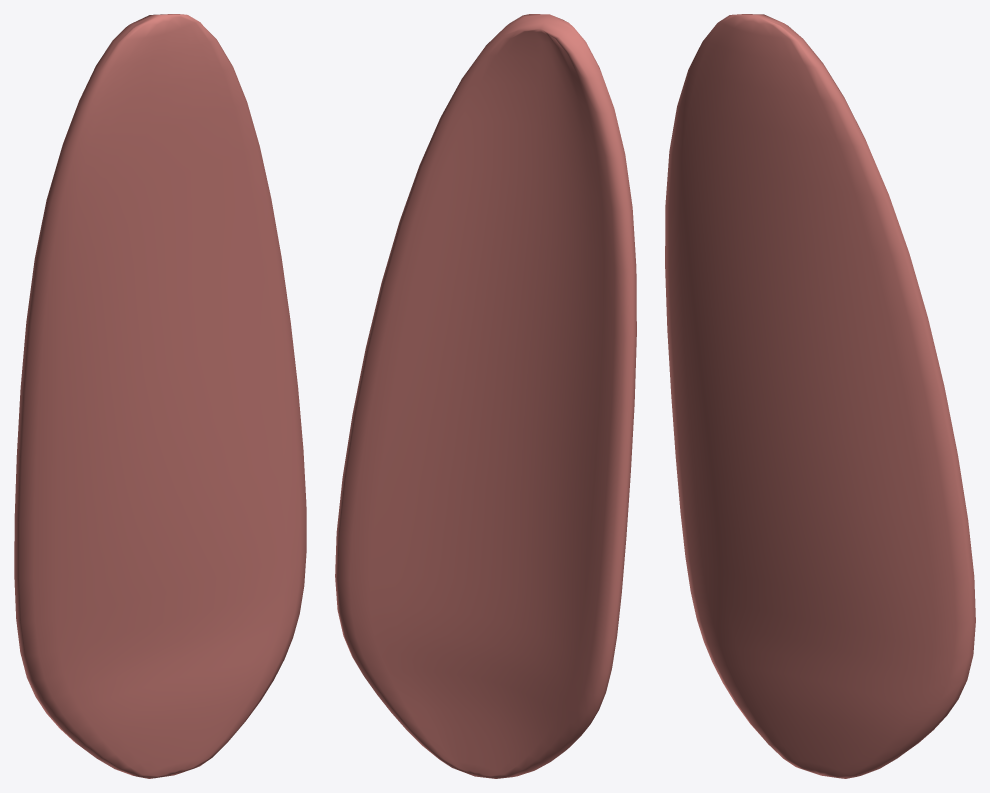
3 views of the same model, side by side, from view 1: azimuth 30°, elevation 25°; view 2: azimuth 150°, elevation 25°; view 3: azimuth 330°, elevation 25° (orthographic). The views are drawn at different scales.
Parts seen in each view (by area): view 1: ZA_300663fcb7cb5d0b; view 2: ZA_300663fcb7cb5d0b; view 3: ZA_300663fcb7cb5d0b.
Boxes of the visible parts, box(x1,y1,x2,y2) form: ZA_300663fcb7cb5d0b: box(14, 14, 306, 778); ZA_300663fcb7cb5d0b: box(335, 14, 636, 778); ZA_300663fcb7cb5d0b: box(665, 14, 975, 778).
Bounding box in the file's own units: 0.0265 × 0.0673 × 0.00764.
